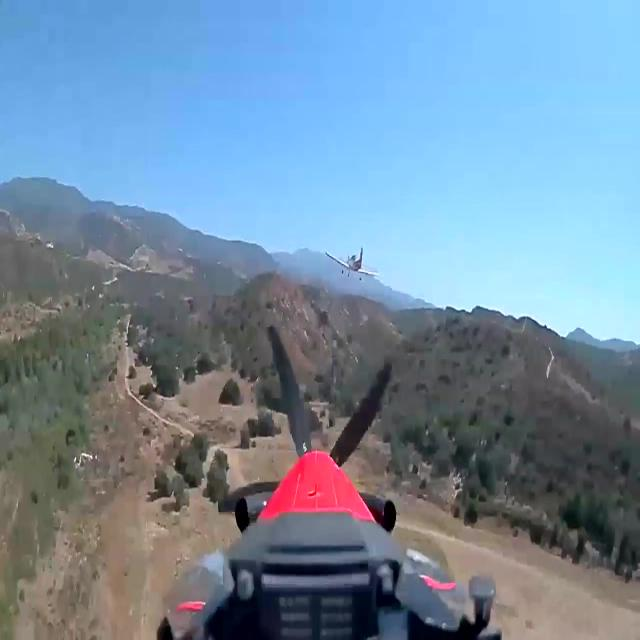iha: (324, 242, 380, 282)
